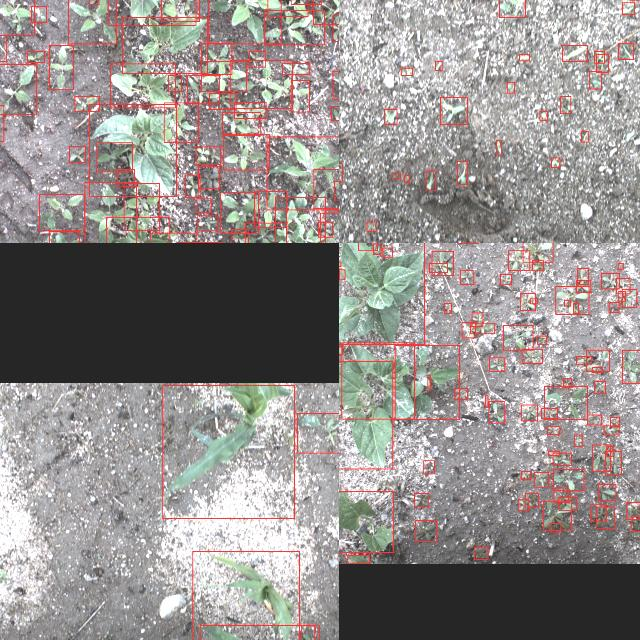crop: (163, 384, 295, 518), (192, 551, 299, 640), (339, 243, 424, 344), (90, 104, 176, 196), (339, 360, 392, 468), (342, 342, 414, 418), (122, 17, 208, 73), (339, 491, 393, 552), (110, 63, 176, 107), (108, 0, 196, 24), (106, 216, 169, 243), (347, 555, 369, 563)
weed: (267, 136, 339, 209), (394, 345, 460, 419), (85, 182, 137, 243), (208, 0, 281, 43), (230, 60, 292, 109), (275, 197, 325, 243), (68, 0, 116, 43), (265, 10, 325, 44), (0, 63, 36, 114), (124, 182, 160, 230), (297, 412, 339, 452), (220, 192, 258, 234), (40, 194, 84, 230), (224, 133, 268, 169), (544, 385, 588, 419), (164, 102, 198, 142), (202, 61, 246, 91), (0, 0, 35, 35), (48, 44, 74, 90), (255, 191, 287, 227), (97, 142, 133, 172), (313, 168, 339, 208), (200, 42, 232, 74), (542, 500, 572, 530), (187, 75, 219, 103), (556, 286, 588, 314), (222, 112, 260, 134), (245, 223, 286, 243), (161, 0, 199, 21), (440, 96, 468, 124), (503, 324, 533, 350), (290, 79, 310, 111), (268, 0, 308, 15), (554, 470, 584, 490), (313, 0, 339, 23), (622, 349, 640, 382), (320, 213, 339, 243), (523, 243, 553, 261), (432, 250, 454, 274), (586, 349, 610, 371), (234, 102, 266, 118), (151, 232, 197, 243), (198, 166, 220, 188), (593, 444, 611, 470), (416, 520, 436, 542), (508, 250, 530, 270), (196, 146, 220, 164), (210, 92, 236, 108), (562, 45, 588, 61), (499, 0, 525, 16), (596, 507, 614, 529), (605, 450, 621, 474), (74, 96, 100, 110), (49, 231, 79, 243), (489, 401, 505, 423), (282, 62, 310, 74), (186, 175, 200, 198), (600, 272, 620, 288), (598, 484, 616, 501), (118, 169, 134, 187), (520, 292, 536, 310), (520, 404, 538, 420), (198, 216, 218, 230), (522, 348, 542, 362), (301, 625, 319, 640), (470, 323, 496, 333), (69, 146, 85, 162), (249, 50, 265, 66), (618, 42, 634, 58), (590, 505, 606, 521), (622, 288, 636, 306), (626, 501, 640, 518), (559, 496, 577, 509), (32, 6, 46, 22), (168, 75, 182, 91), (232, 229, 248, 243), (576, 278, 592, 292), (616, 277, 630, 293), (457, 162, 467, 184), (589, 70, 601, 88), (596, 54, 608, 72), (553, 453, 571, 465), (426, 170, 436, 190), (196, 198, 210, 212), (318, 222, 332, 236), (460, 270, 474, 284), (462, 322, 476, 336), (490, 357, 504, 371), (534, 472, 548, 486), (554, 488, 568, 502), (384, 108, 396, 124), (414, 494, 430, 506), (332, 15, 339, 41), (429, 262, 447, 272), (28, 50, 44, 61), (526, 493, 538, 507), (474, 547, 488, 559), (560, 96, 570, 112), (541, 408, 557, 418), (578, 267, 588, 283), (0, 34, 6, 60), (454, 388, 468, 399), (622, 2, 634, 14), (594, 381, 606, 393), (472, 312, 482, 326), (588, 414, 602, 424), (631, 515, 640, 530), (358, 243, 377, 250), (424, 461, 434, 474), (576, 356, 592, 364), (331, 105, 339, 120), (594, 50, 604, 62), (532, 260, 544, 270), (604, 426, 618, 434), (501, 274, 512, 284), (366, 221, 376, 231), (550, 157, 560, 167), (519, 500, 529, 510), (550, 522, 560, 532), (562, 378, 572, 388), (609, 302, 619, 312), (401, 67, 413, 75), (548, 426, 560, 434), (574, 434, 582, 446), (383, 247, 393, 256), (610, 418, 620, 427), (507, 81, 515, 92), (496, 140, 502, 154), (444, 302, 452, 312), (373, 243, 381, 253), (618, 290, 626, 300), (582, 130, 588, 142), (538, 335, 546, 343), (522, 471, 530, 479), (540, 110, 546, 120), (436, 60, 442, 70), (519, 54, 529, 60), (592, 366, 602, 372), (607, 446, 613, 456), (392, 172, 400, 178), (484, 395, 488, 407), (548, 451, 560, 455), (404, 175, 410, 182), (89, 0, 99, 4), (340, 269, 344, 279), (574, 302, 578, 312), (339, 344, 343, 353), (564, 299, 570, 305), (428, 374, 430, 390), (530, 298, 538, 302), (618, 262, 622, 270), (339, 260, 341, 265)
